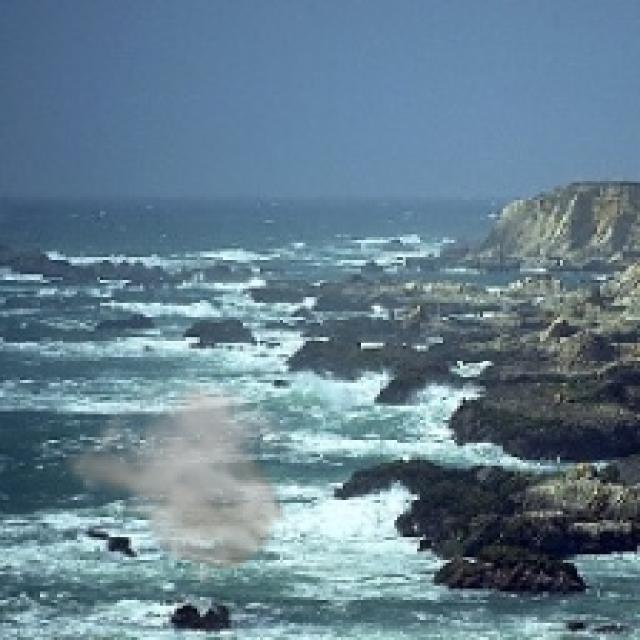Smoke: (54, 372, 309, 588)
